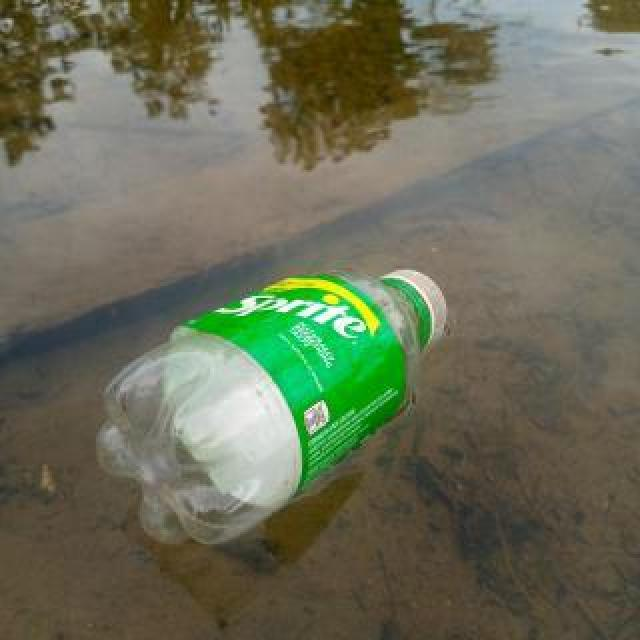bottle: (94, 266, 452, 548)
